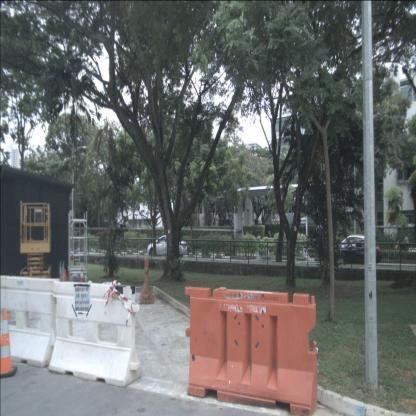human-pedestrian-adult: (404, 234, 410, 255)
movable_object-barrier: (184, 286, 317, 416), (48, 279, 142, 388), (0, 274, 61, 368), (140, 258, 154, 305)
movable_object-trafficcone: (0, 309, 18, 379), (77, 268, 87, 300), (26, 266, 35, 298), (62, 270, 70, 299)
vehicle-car: (333, 238, 381, 266), (333, 234, 370, 262), (146, 235, 188, 258)
